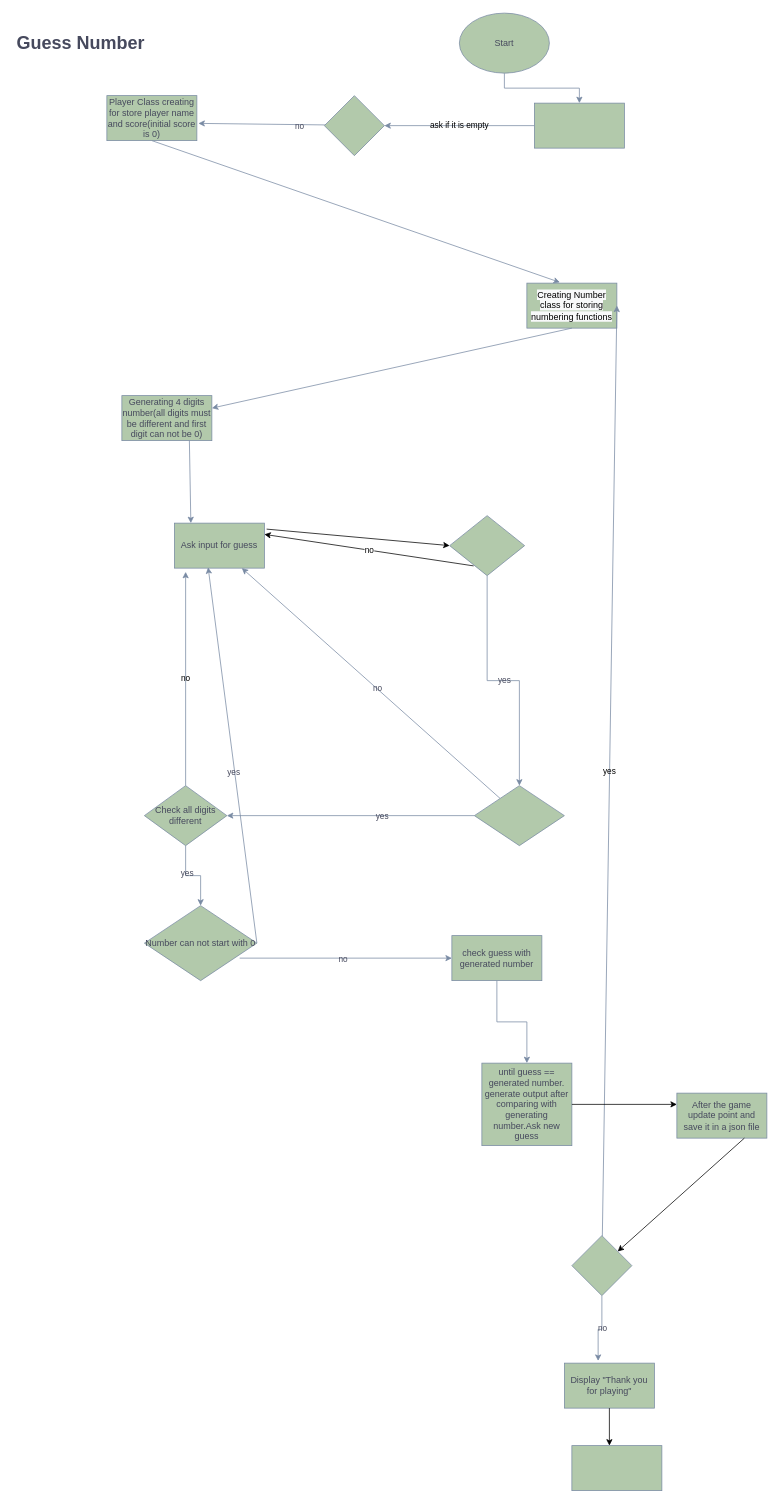
Image size: 780x1504. Some labels were removed from this diagram. Each missing label, with the centre of its shape:
check number length(4 digits): [519,815]
Display top three players with scores: [616,1468]
empty. string: [354,125]
it is a number: [487,545]
New game: [601,1265]
User input(ask player name): [579,125]
